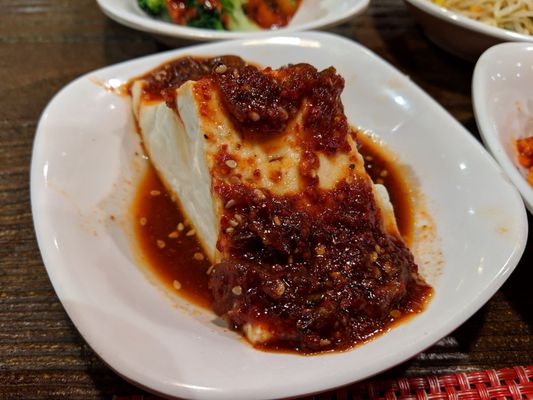sushi: (93, 0, 371, 46), (470, 40, 533, 216), (404, 0, 533, 62)
